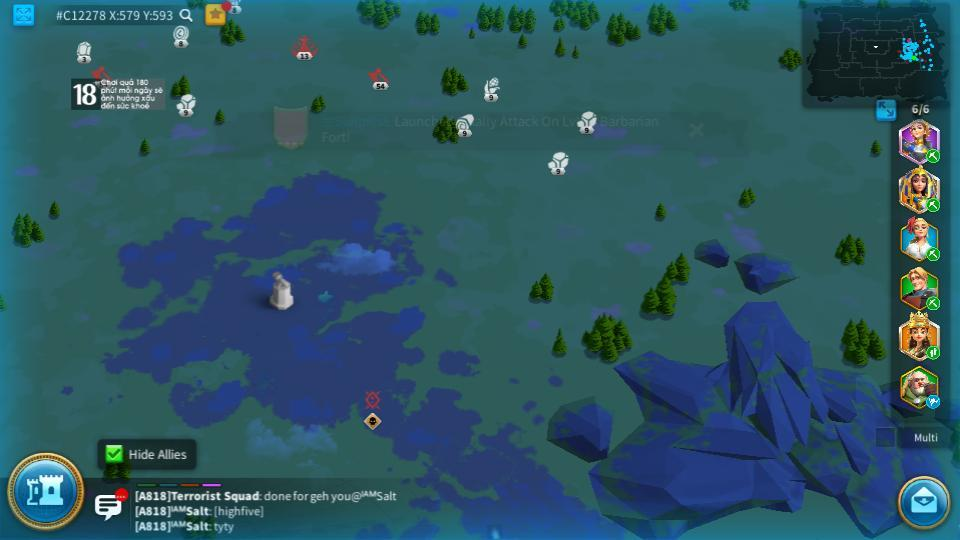gem-z-out: (74, 40, 93, 62)
march_farming: (925, 197, 941, 212), (925, 250, 941, 261)
march_idle: (925, 396, 942, 408)
march_marching: (925, 347, 942, 359), (925, 150, 941, 162), (925, 297, 942, 308)
